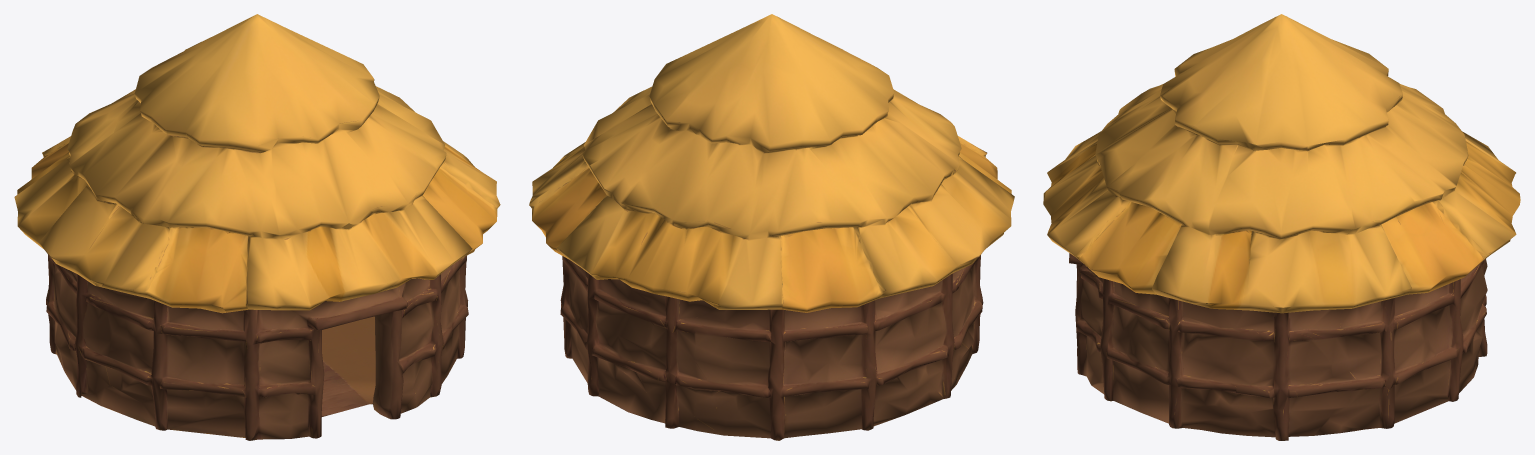
File: hut.glb
3 views of the same model, side by side, from view 1: azimuth 30°, elevation 25°; view 2: azimuth 150°, elevation 25°; view 3: azimuth 270°, elevation 25° (orthographic).
Parts seen in each view (by area): view 1: Mesh_0; view 2: Mesh_0; view 3: Mesh_0.
Boxes of the visible parts, <box> form: Mesh_0: <box>14,14,500,440</box>; Mesh_0: <box>529,14,1014,440</box>; Mesh_0: <box>1043,14,1520,440</box>.
Bounding box in the file's own units: 1.91 × 1.5 × 1.9.
1 material, 1 textured.
